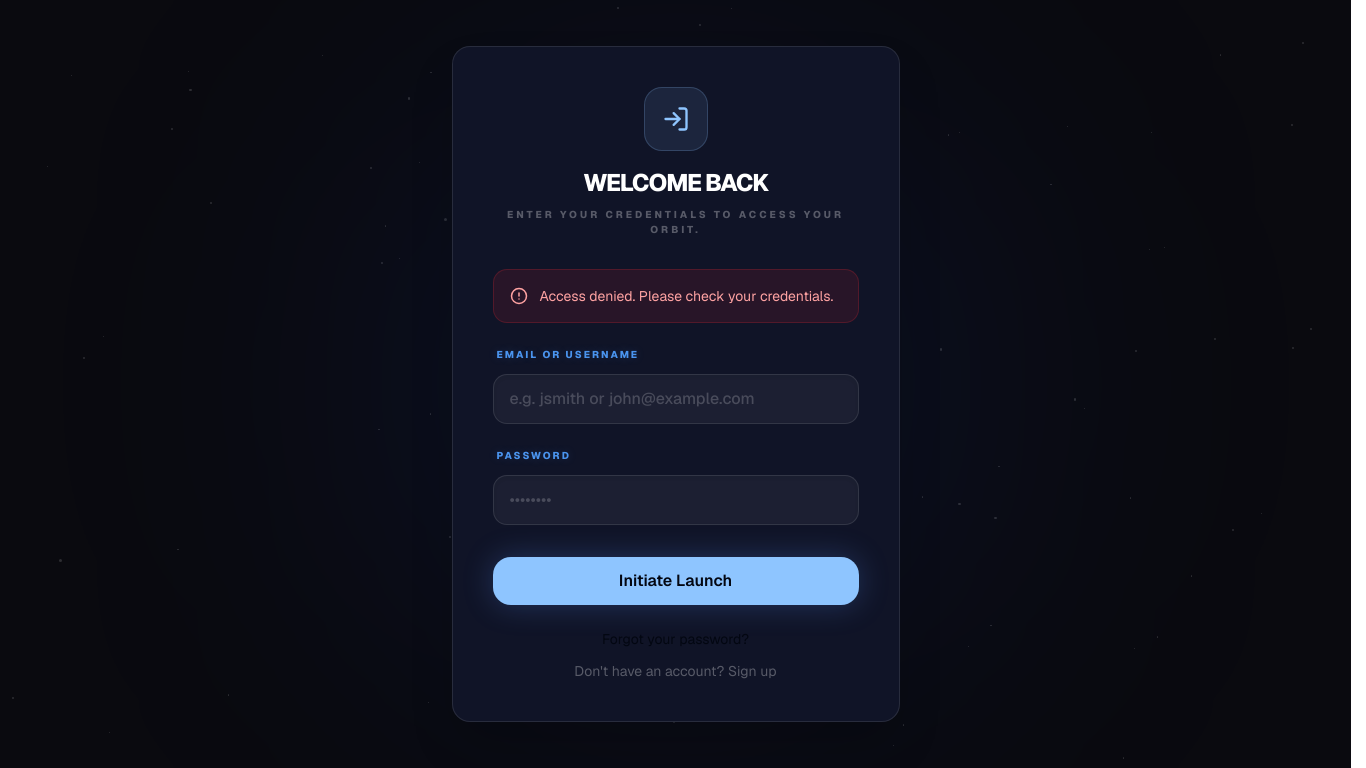
Test: LoginPage › clears existing error before a new submission
Expected: the text "Access denied. Please check your credentials." is shown, [540,286,833,306]
Type "deeti" into the field with placeholder "e.g. jsmith or john@example.com" at (676, 399), box [492,374,858,424]
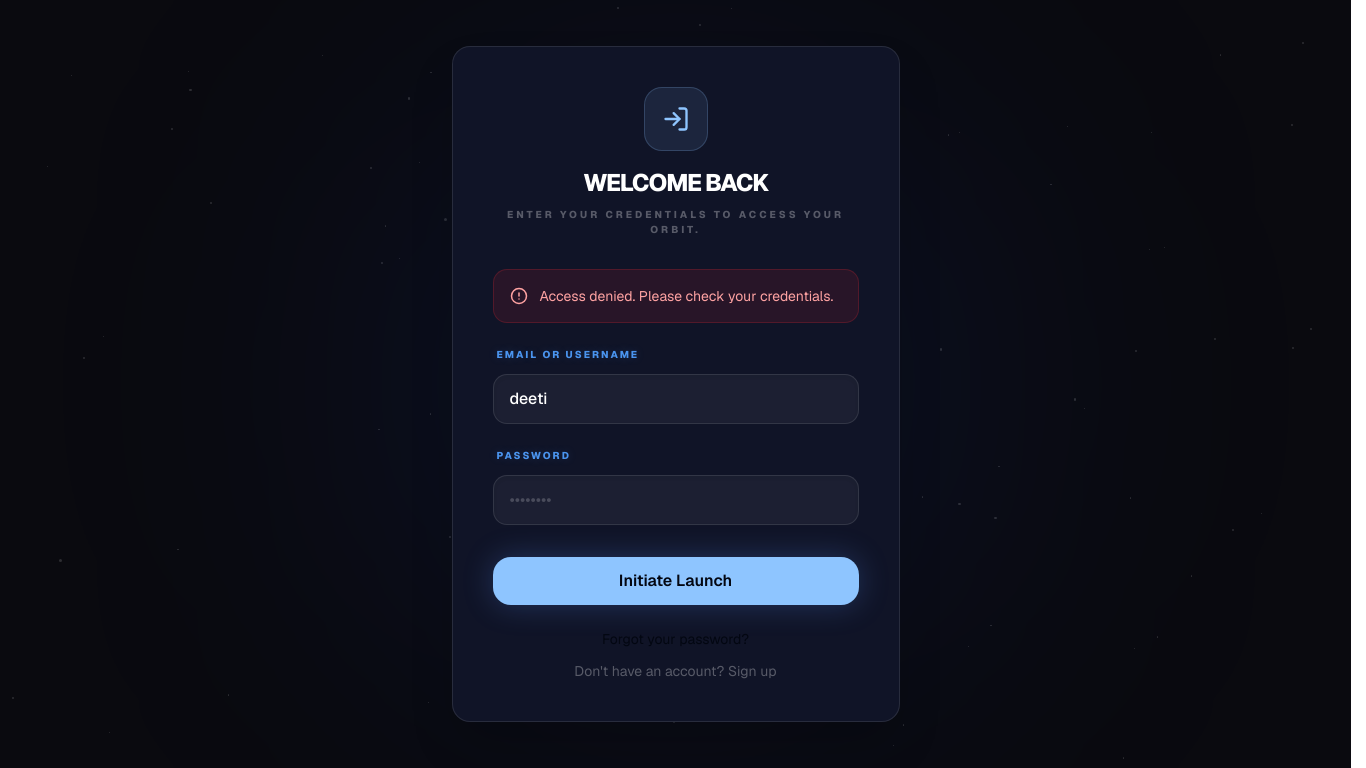
Type "wrongpass" into the password field with placeholder "••••••••" at (676, 500), box [492,475,858,525]
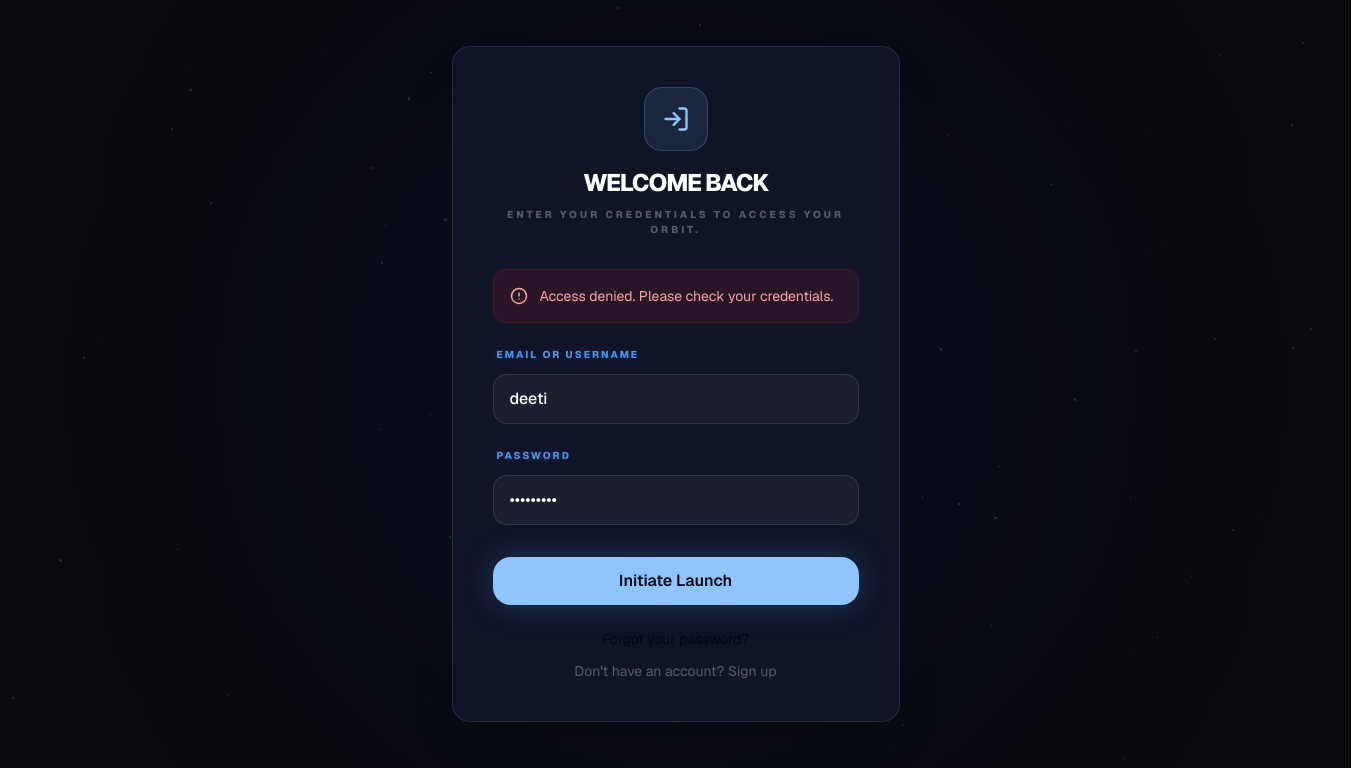
Click the button "Initiate Launch" at (676, 581), box [492,557,858,605]
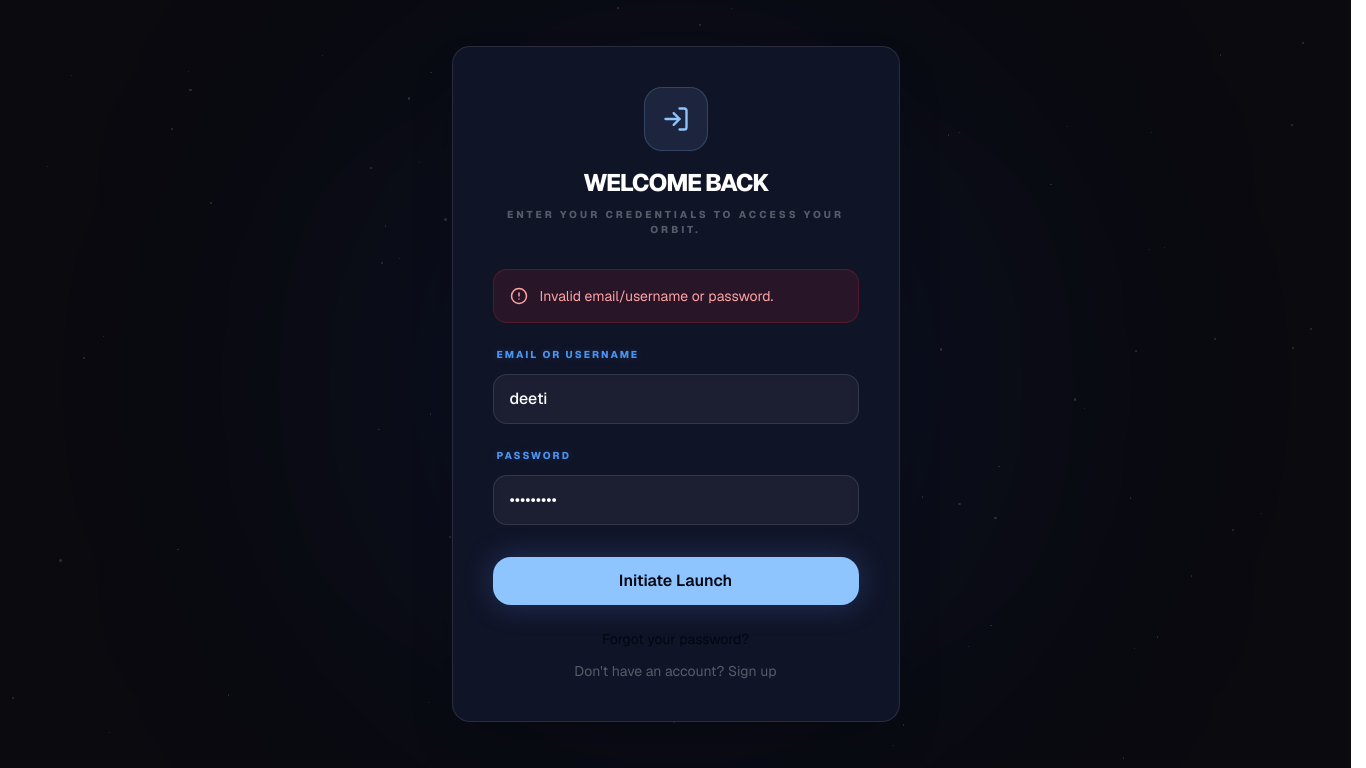
Expected: the text "Invalid email/username or password." is shown, [540,286,773,306]
Expected: the text "Access denied. Please check your credentials." is gone
